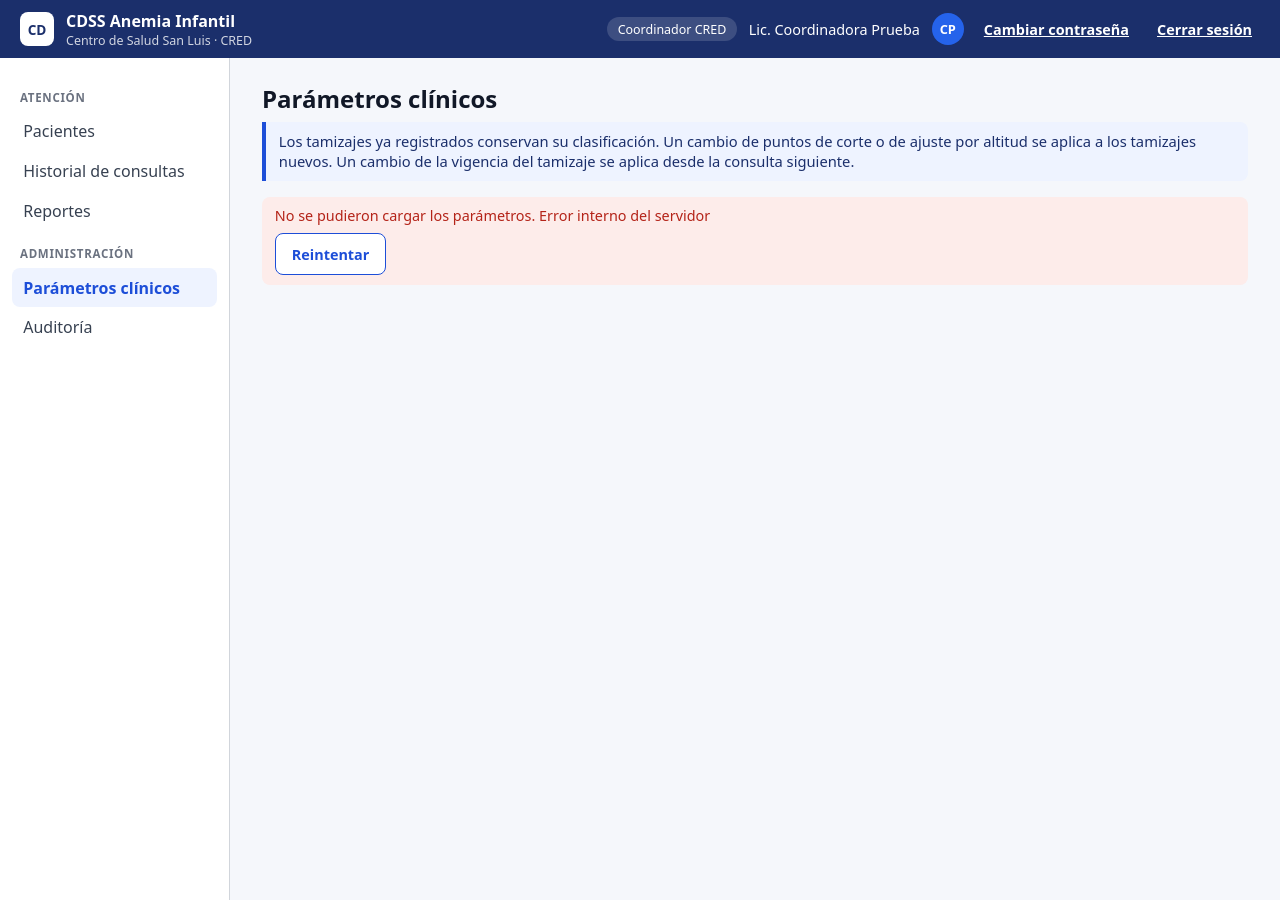
Test: M12 · lectura y avisos › error de carga con «Reintentar»
Click the button "Reintentar". click: (331, 254)
box: [275, 233, 386, 275]
(page scrolled)
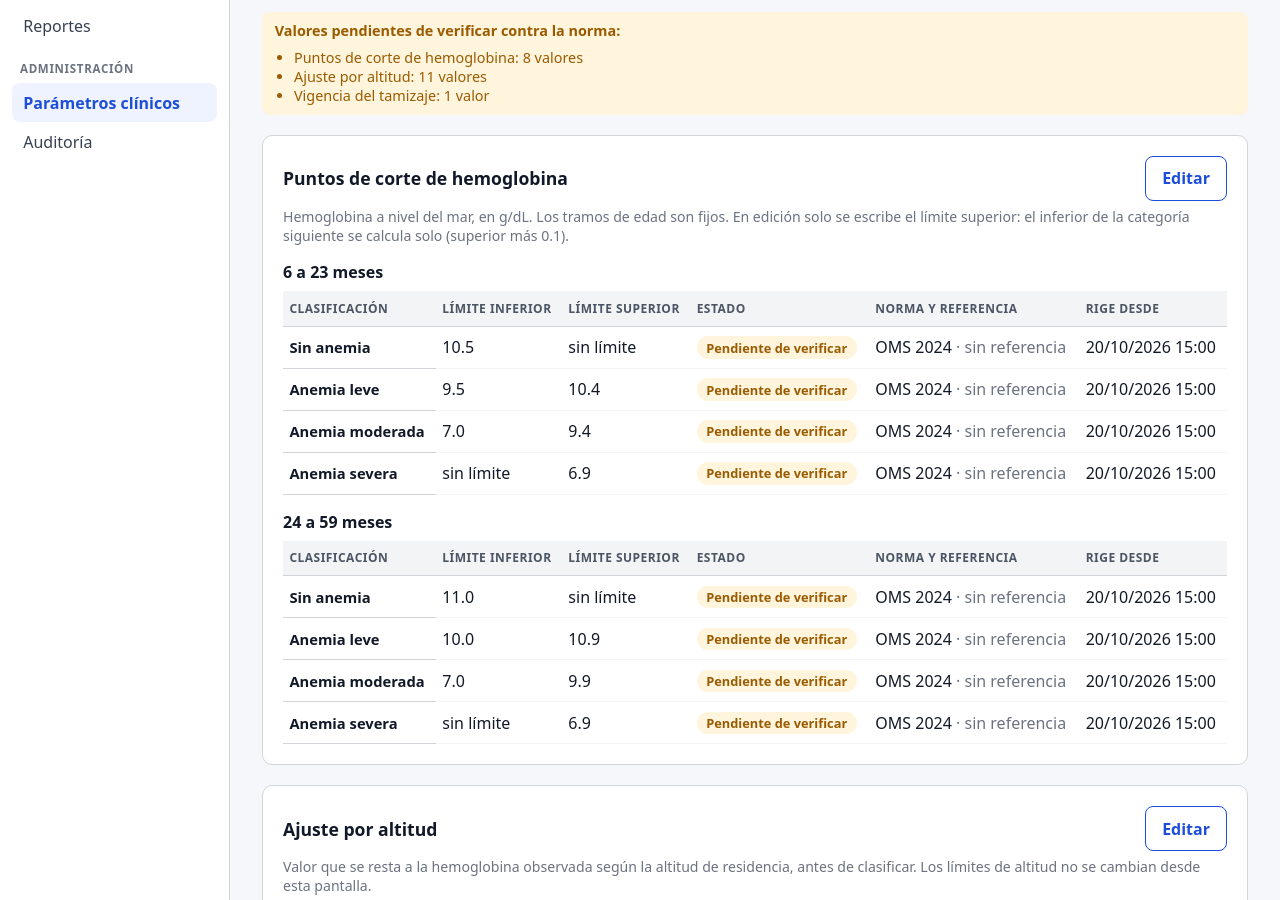
Check: the element "Puntos de corte de hemoglobina" is shown, box [262, 135, 1248, 765]
